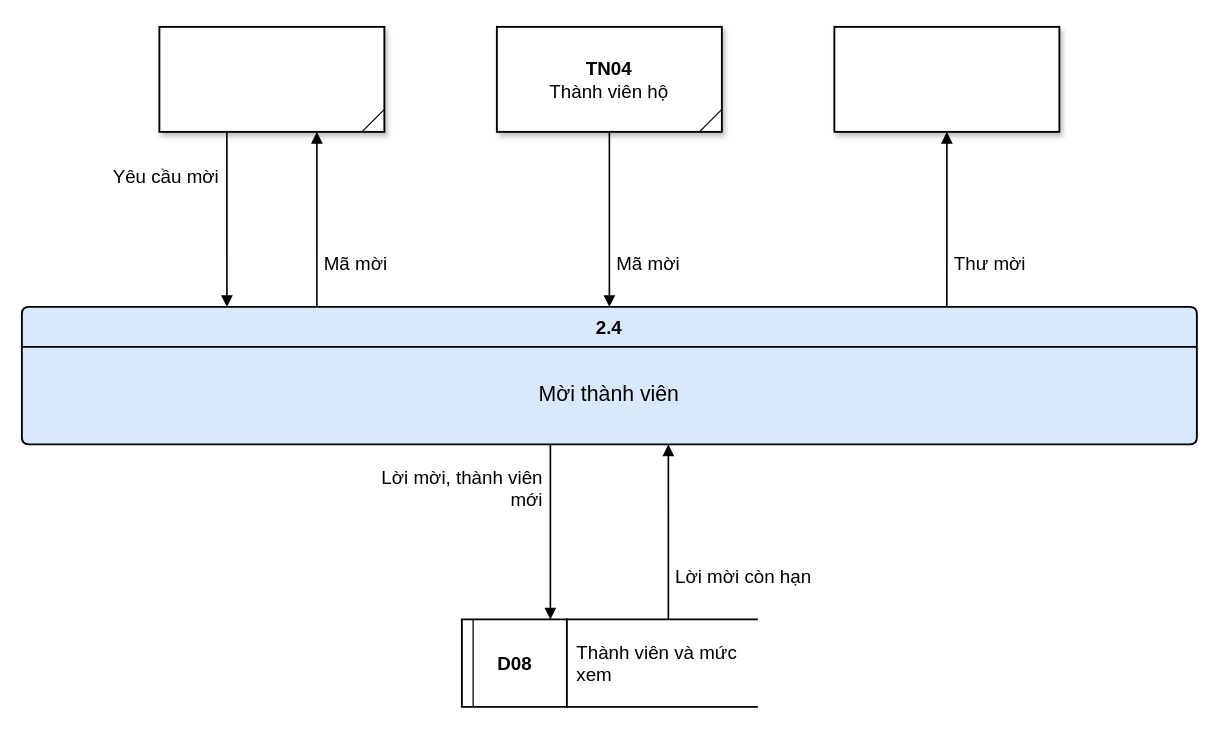
This 1220x731 diagram has some shape labels left out. The shapes that lost their labels are listed below. From the top down, each one's centre as x and y in pixels, then its label:
At [272,80]: "TN03 Chủ hộ".
At [947,80]: "TN13 Dịch vụ thư điện tử".
